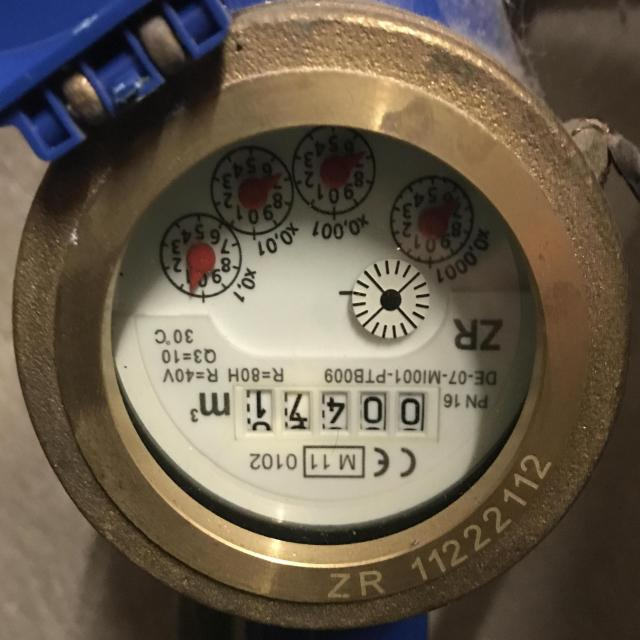gaz_meter: (108, 125, 536, 532)
indication: (235, 385, 440, 444)
